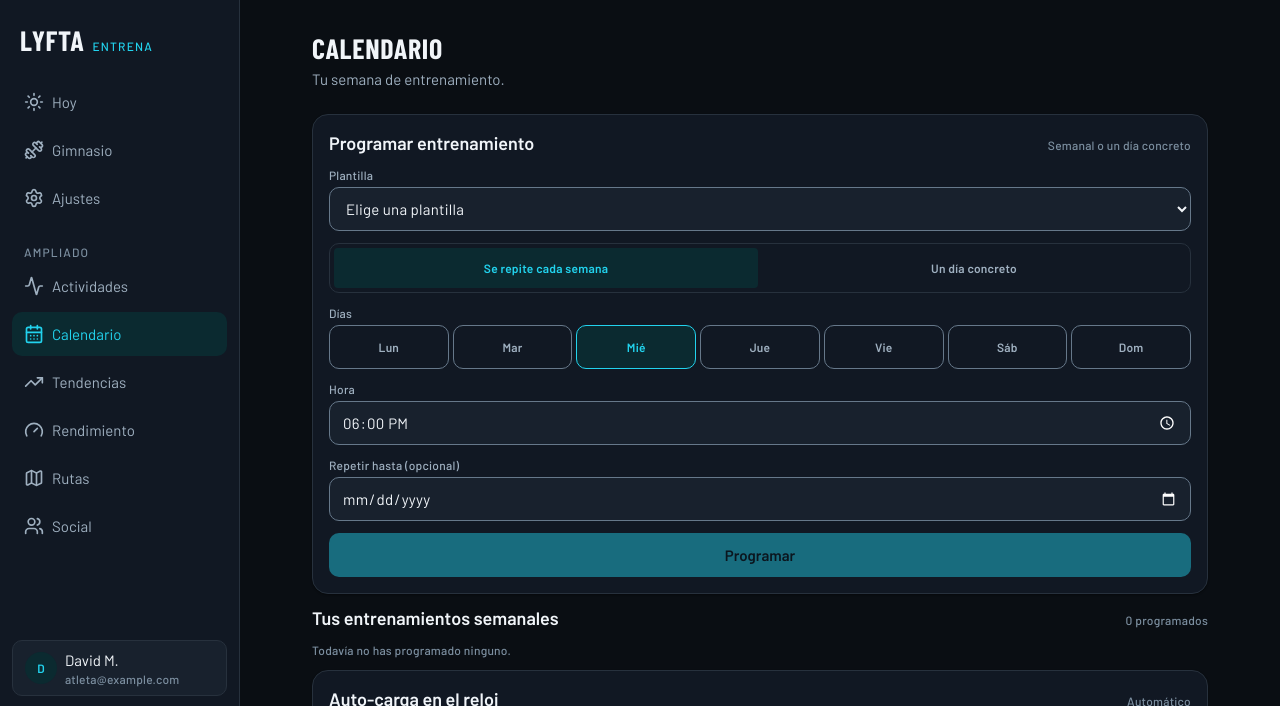
Test: calendario de entrenamientos › programa una plantilla en un día y la deja lista para el reloj
The width and height of the screenshot is (1280, 706).
Expected: the heading "Calendario" is shown, 312,31 -> 443,65
Select "Empuje A" in the dropdown labelled "Plantilla" at coordinates (760, 209), box 329,187 -> 1191,231
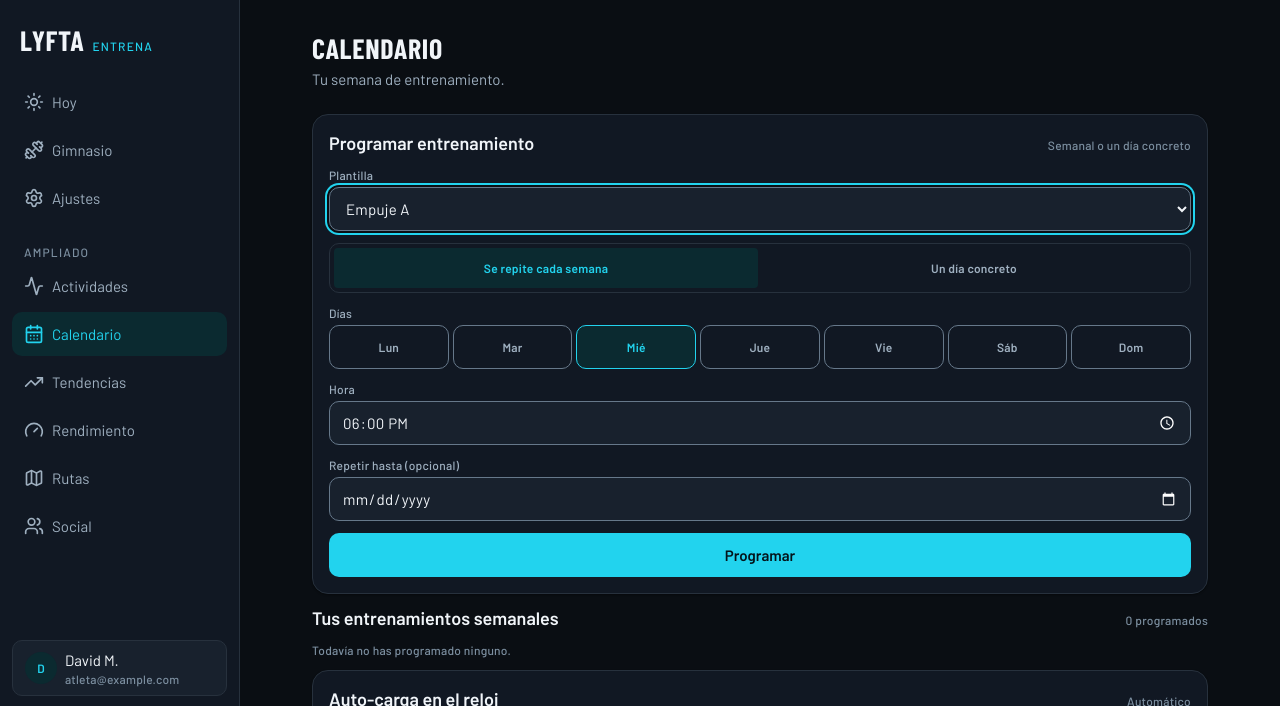
Click the button "Programar" at coordinates (760, 555), box 329,533 -> 1191,577
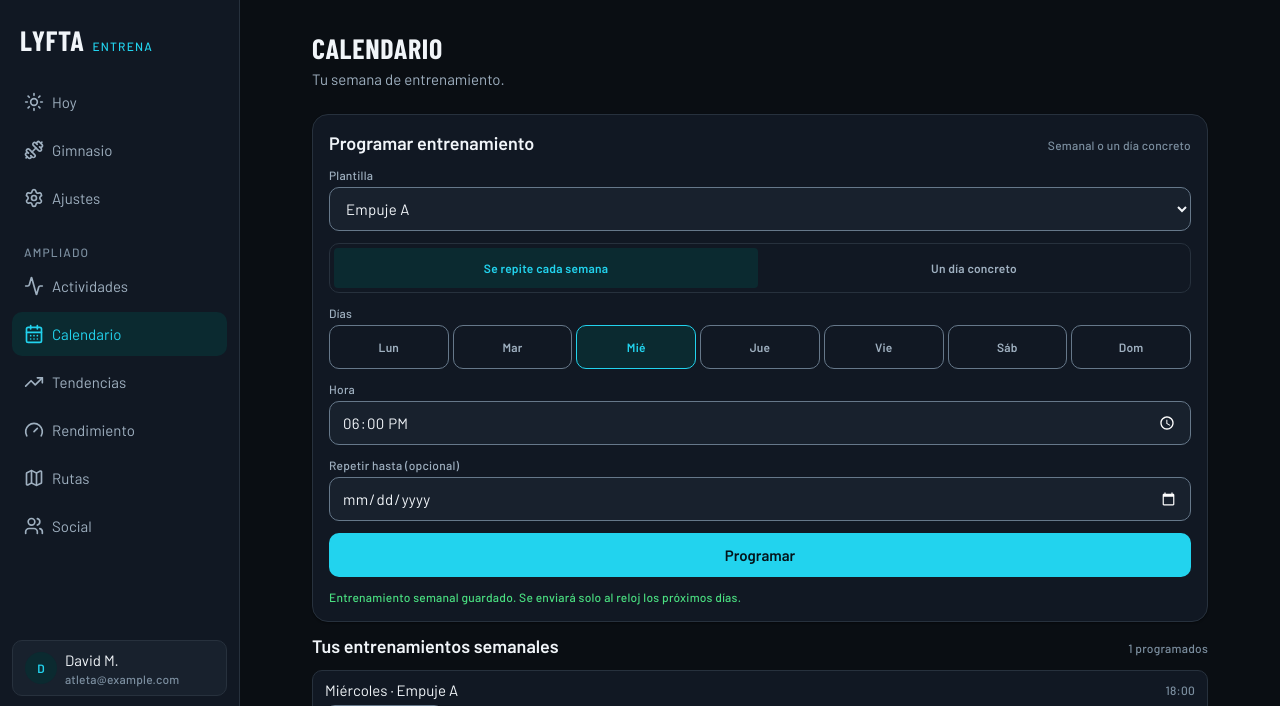
Expected: the text "Entrenamiento semanal guardado. Se enviará solo al reloj los próximos días." is shown, 329,590 -> 741,604
Expected: the text "Miércoles · Empuje A" is shown, 325,679 -> 458,701
